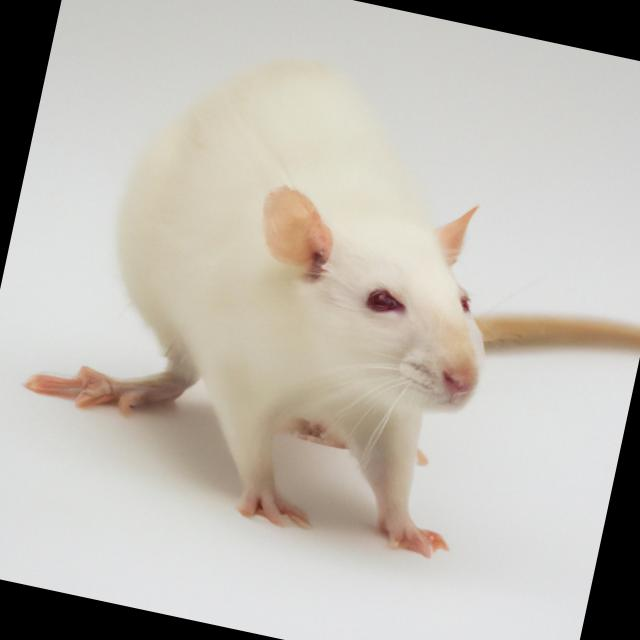rodent: (51, 18, 589, 585)
